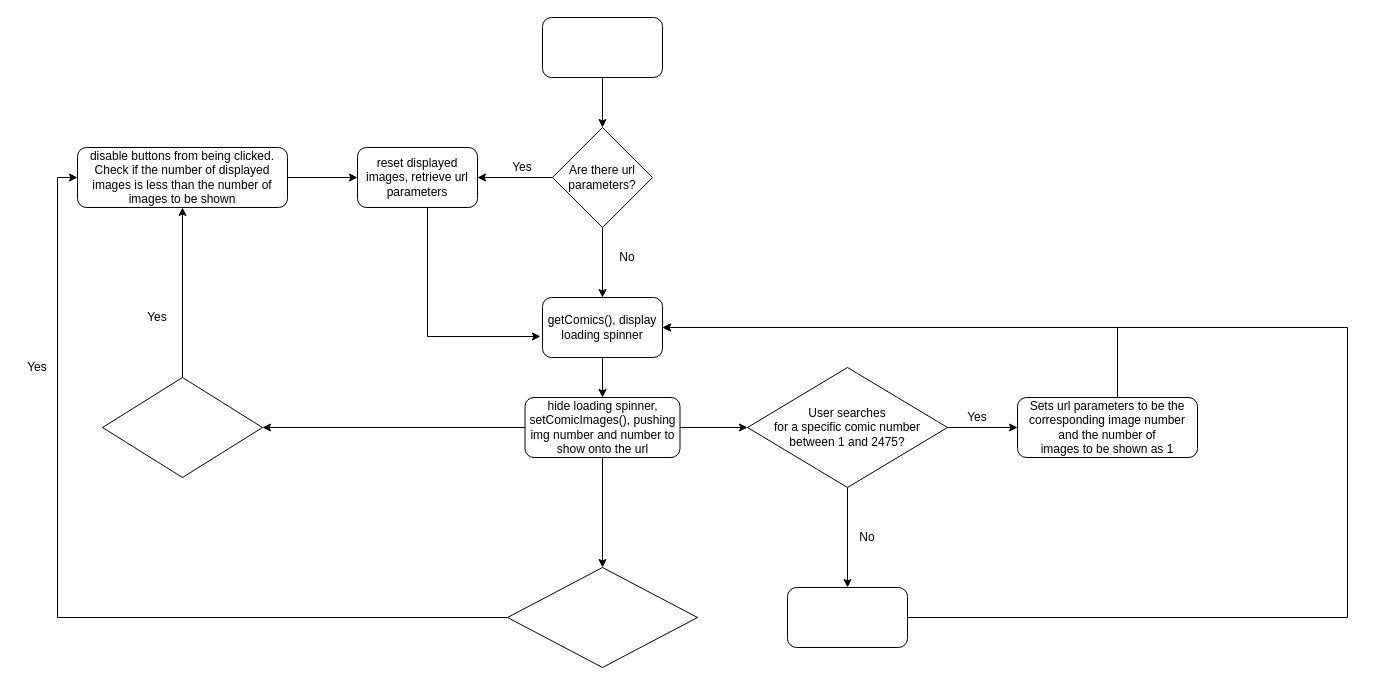
Some shapes in this 1373 by 685 pixel diagram are drawn without their labels. The shapes that lost their labels are listed below. From the top down, each one's box as (x1, y1, x2, y2) in pixels, then its label:
(542, 16, 662, 78): On Page Load
(102, 376, 262, 478): User clicks previous, next or random button?
(506, 566, 698, 668): User changes the number of images to display?
(786, 586, 908, 648): If comic number specified is > 2475, display last image, else display image 1
